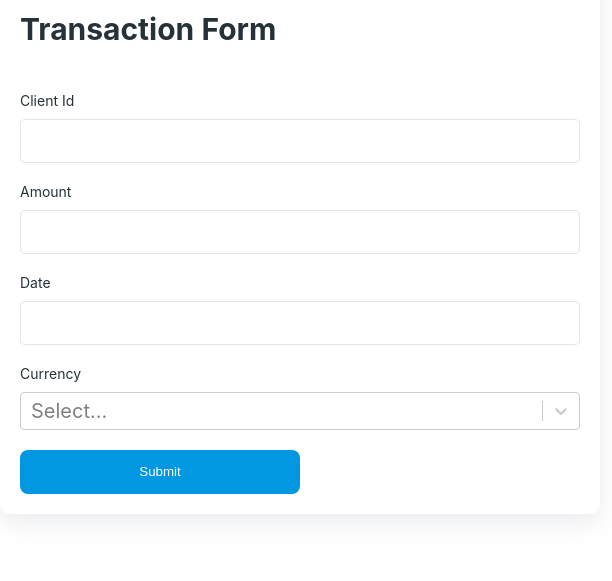
Test: App › it should display date error when invalid date is entered
Type "35" into the field labelled "Client Id". click: (300, 141)
box: [20, 119, 580, 163]
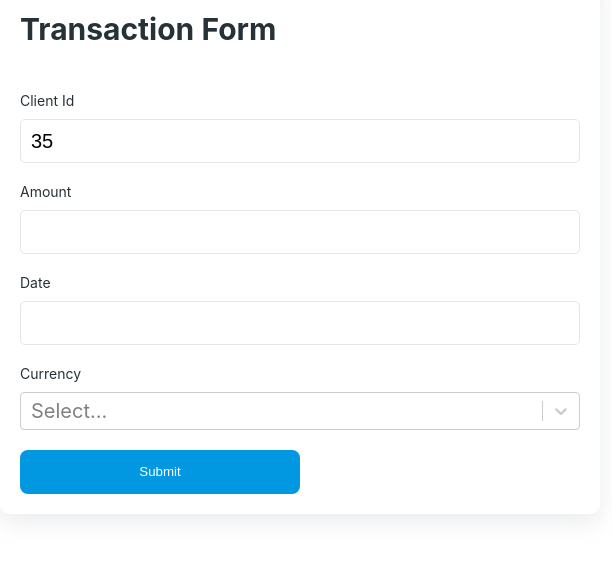
Type "100.98" into the field labelled "Amount". click: (300, 232)
box: [20, 210, 580, 254]
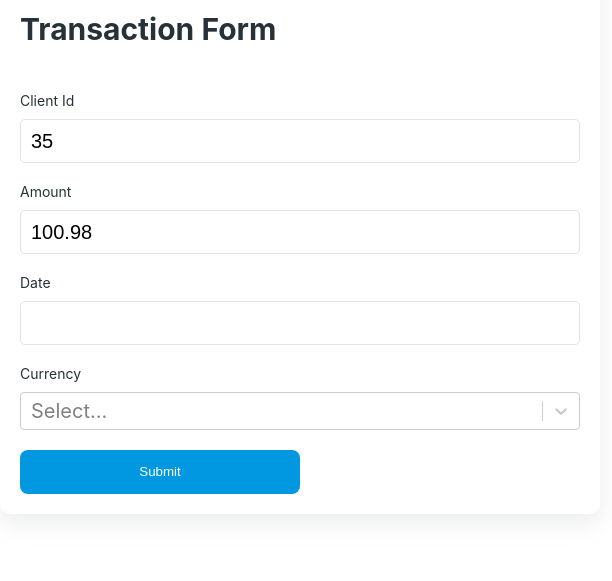
Type "Invalid Date" into the field labelled "Date". click: (300, 323)
box: [20, 301, 580, 345]
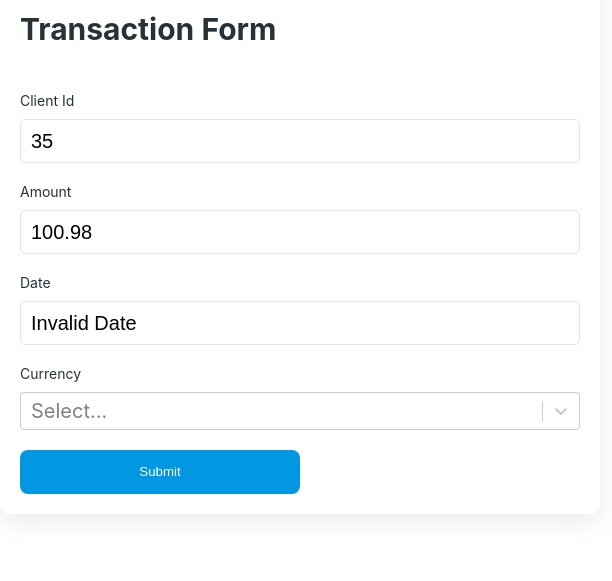
Press ArrowDown in the text "Select...", box [31, 399, 107, 423]
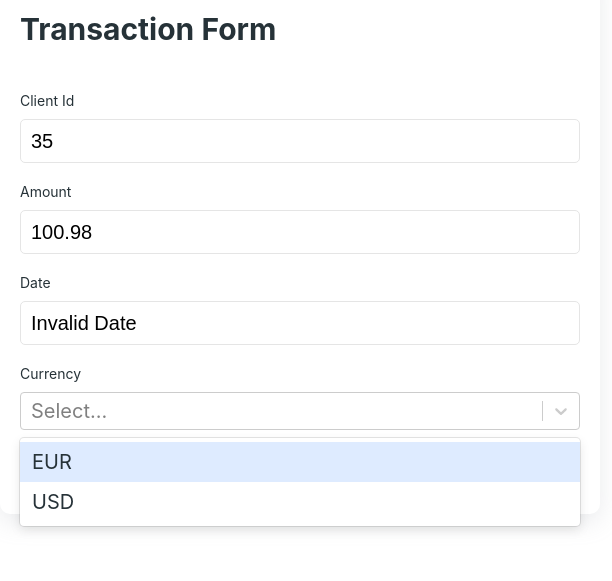
Expected: the text "USD" is shown
Click the text "USD". click: (53, 502)
box: [32, 490, 74, 514]
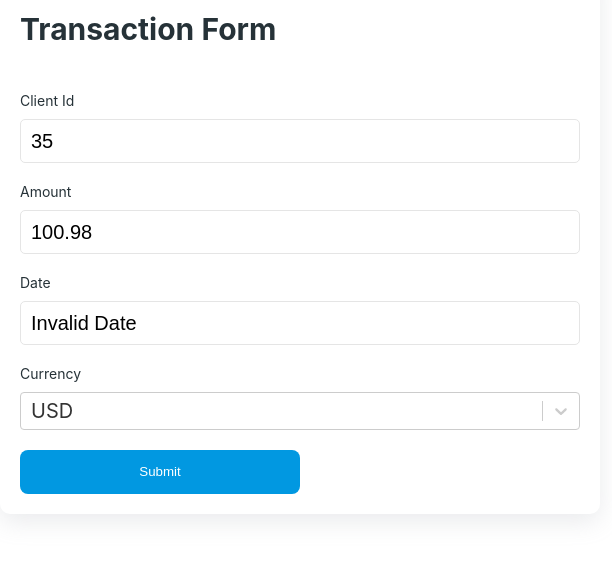
Submit the form from the button, box [20, 450, 300, 494]
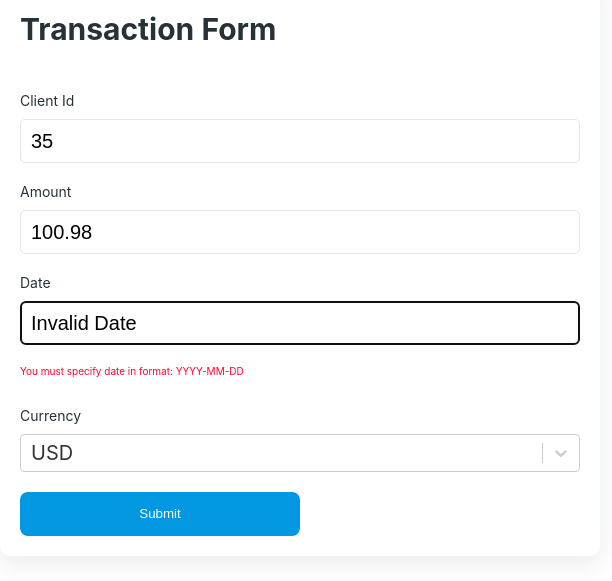
Expected: the number of messages is 1, [20, 365, 244, 377]
